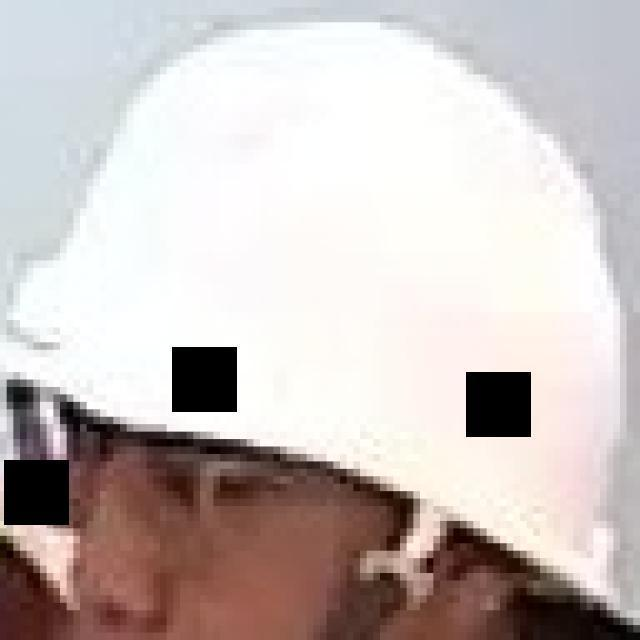white helmet: (44, 47, 623, 520)
